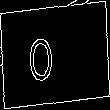O_N: (42, 27, 68, 83)
